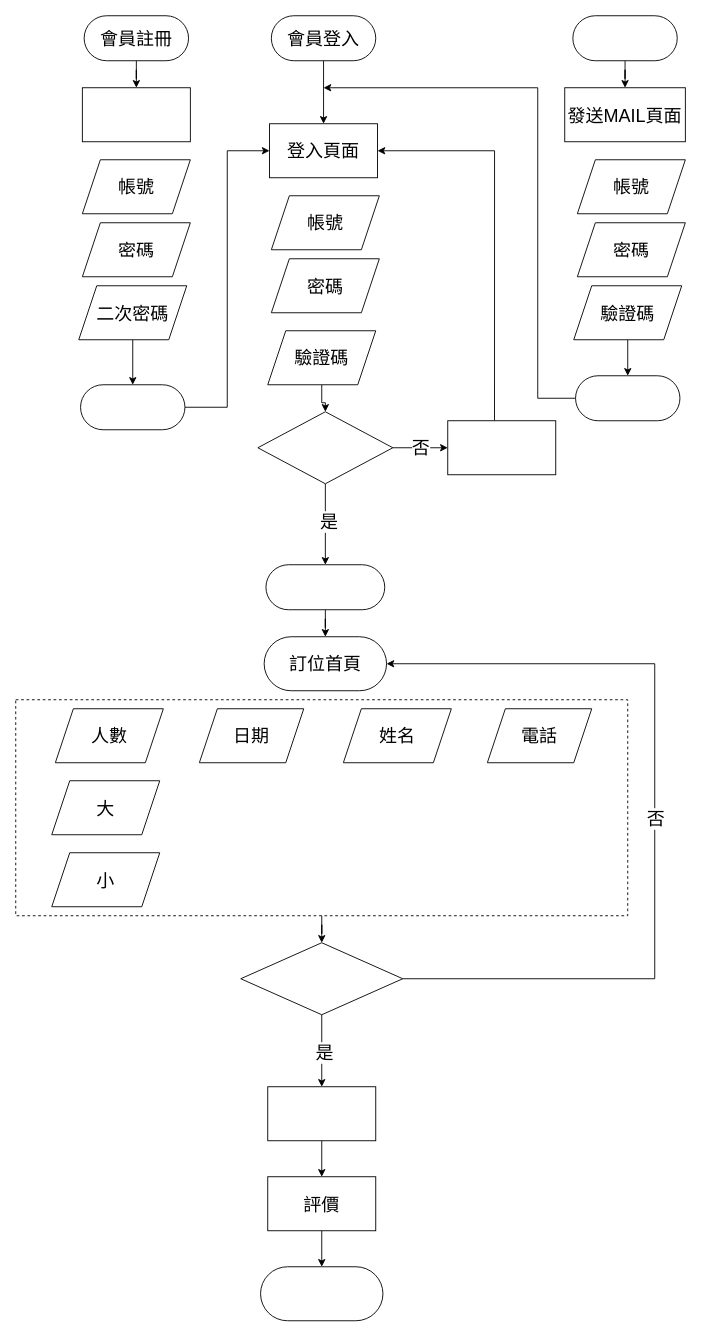
The diagram is 701 pixels wide and 1337 high, and some of its shapes have lost their labels. Here are the shapes that lost their labels. From the top down, the centre of each, then its label:
pixel 624 38: 忘記密碼
pixel 135 114: 註冊頁面
pixel 132 407: 註冊成功
pixel 627 398: 寄送成功
pixel 325 447: 帳密是否正確
pixel 501 447: 錯誤資訊
pixel 325 587: 會員登入成功
pixel 321 978: 確定是否訂位
pixel 321 1113: 確認訂位
pixel 321 1293: 訂位完成
